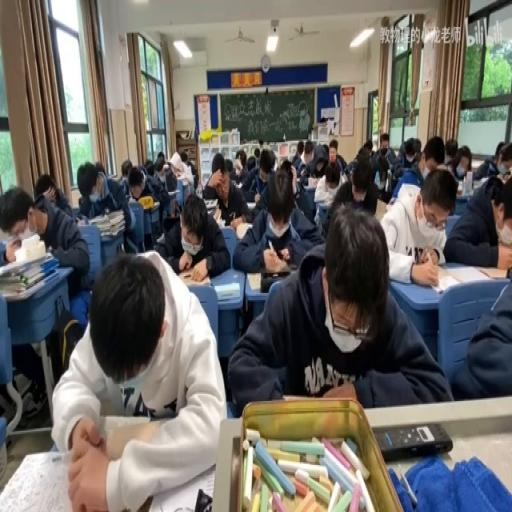calculator: (0, 449, 76, 512), (148, 465, 214, 512), (443, 263, 491, 286), (0, 226, 34, 253), (178, 267, 210, 286), (213, 280, 241, 300), (314, 199, 332, 229), (234, 222, 252, 240), (374, 196, 388, 219), (246, 270, 260, 289), (472, 175, 486, 189), (203, 196, 218, 209), (182, 179, 190, 202), (304, 175, 317, 188), (212, 206, 222, 222), (338, 168, 348, 182), (74, 214, 88, 224), (147, 199, 159, 209), (232, 179, 242, 189), (166, 189, 178, 196), (245, 201, 255, 209), (156, 233, 163, 243)
paper: (228, 204, 450, 416), (52, 249, 224, 509), (2, 180, 88, 292), (449, 271, 512, 399), (442, 168, 512, 267), (80, 159, 137, 256), (50, 273, 91, 387), (199, 154, 250, 228), (326, 154, 379, 224), (255, 154, 305, 220), (134, 156, 173, 232), (386, 138, 424, 200), (418, 135, 446, 178), (32, 172, 58, 203), (374, 132, 394, 168), (472, 158, 498, 179), (185, 155, 198, 191), (324, 162, 339, 188), (444, 137, 458, 162), (152, 150, 166, 174), (302, 142, 314, 169), (294, 158, 308, 180), (278, 159, 292, 179), (128, 178, 142, 198), (234, 148, 246, 171), (328, 138, 338, 165), (344, 158, 358, 176), (121, 159, 133, 179), (458, 152, 470, 172), (496, 155, 510, 172), (494, 140, 504, 160), (295, 139, 304, 161), (362, 138, 373, 154), (414, 138, 422, 159), (142, 158, 153, 173), (94, 161, 105, 176), (245, 154, 255, 170), (223, 158, 232, 173), (253, 145, 259, 161), (274, 158, 282, 169), (180, 149, 186, 162)
person: (374, 422, 451, 461), (260, 270, 290, 292)
